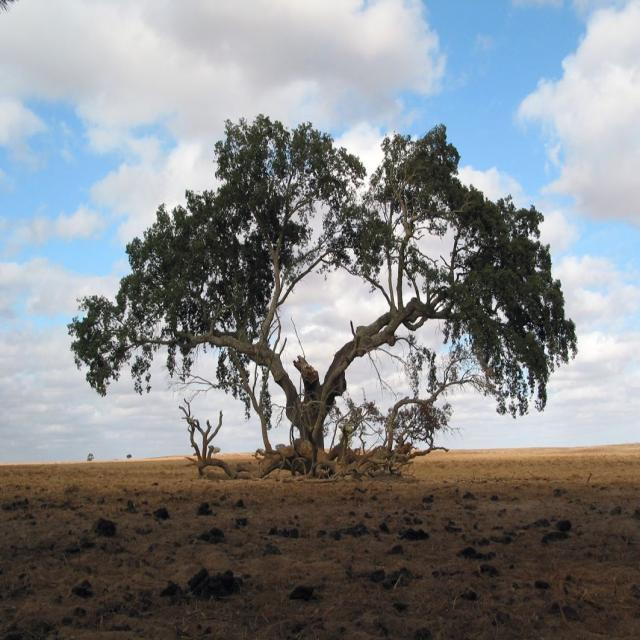Tree: (65, 103, 585, 458)
